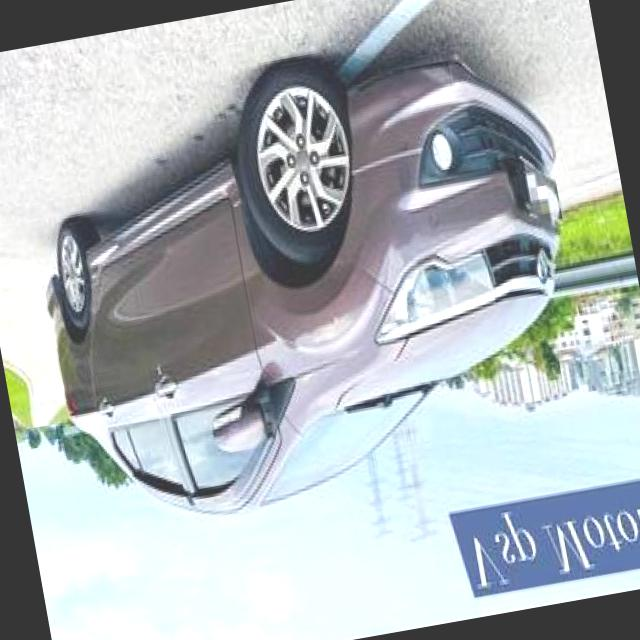PeroduaBezza: (9, 16, 610, 544)
